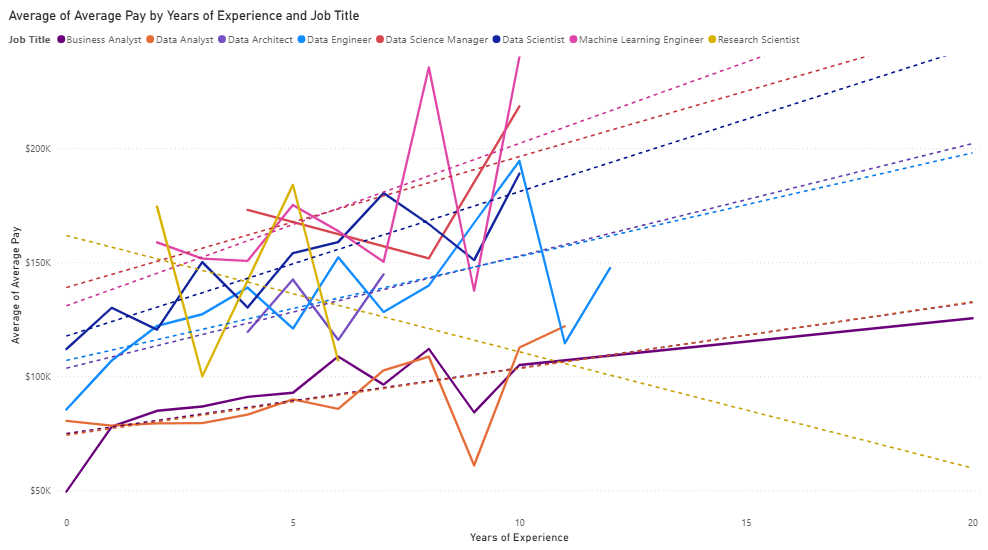

This screenshot's page, from the dashboard's own definition file:
{"tool":"powerbi","page":{"name":"Salary Analysis","canvas":[1280,720],"ordinal":6},"visuals":[{"type":"lineChart","fields":{"Category":["Job Postings.Years of Experience"],"Series":["Job Postings.Job Title"],"Y":["_Measures.Average of Average Pay"]},"box":[9.6,15.4,1255.8,690.4],"z":0}]}

Visuals, with their boxes in screenshot pixels (x1, y1, x2, y2), scaled from the page's 1280x720 canvas onto the 988x550 screenshot:
lineChart - Job Postings.Years of Experience x Job Postings.Job Title: x1=7, y1=12, x2=977, y2=539
